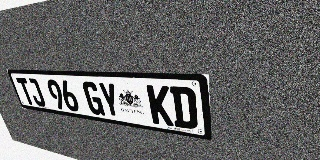6: (58, 80, 81, 112)
9: (45, 79, 67, 110)
D: (170, 86, 198, 130)
G: (81, 81, 105, 116)
J: (26, 78, 47, 107)
K: (146, 85, 174, 126)
T: (16, 78, 36, 105)
Y: (97, 82, 122, 119)
